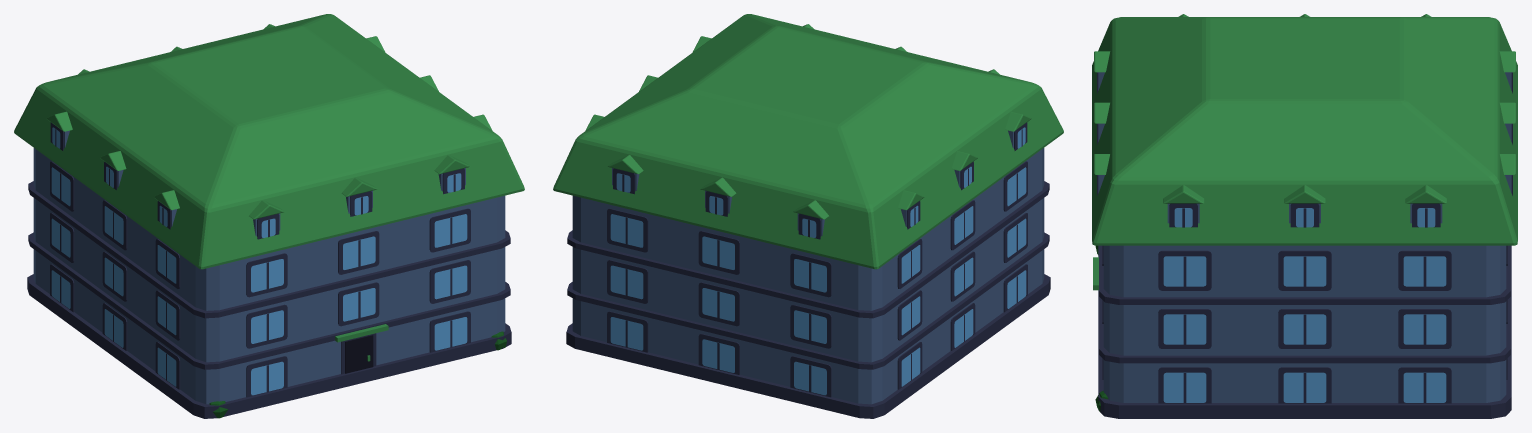
The model's file is house-2x2-3f-mansard-b.glb.
The picture shows the model from 3 angles, left to right: view 1: azimuth 30°, elevation 25°; view 2: azimuth 150°, elevation 25°; view 3: azimuth 270°, elevation 25°; orthographic projection. The views are drawn at different scales.
Visible parts, largest first — view 1: house-2x2-3f-mansard-b; view 2: house-2x2-3f-mansard-b; view 3: house-2x2-3f-mansard-b.
Boxes of the visible parts, bbox=[...] form: house-2x2-3f-mansard-b: bbox=[14, 14, 524, 418]; house-2x2-3f-mansard-b: bbox=[553, 14, 1063, 418]; house-2x2-3f-mansard-b: bbox=[1092, 14, 1517, 418].
Size of the model in its own units: 1.99 by 1.41 by 1.99.
Materials: 1 (1 with a texture image).
